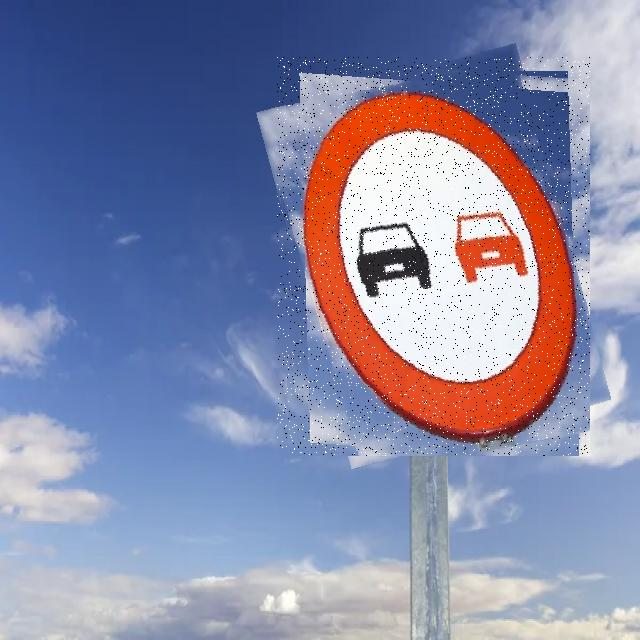no overtaking: (277, 57, 590, 456)
